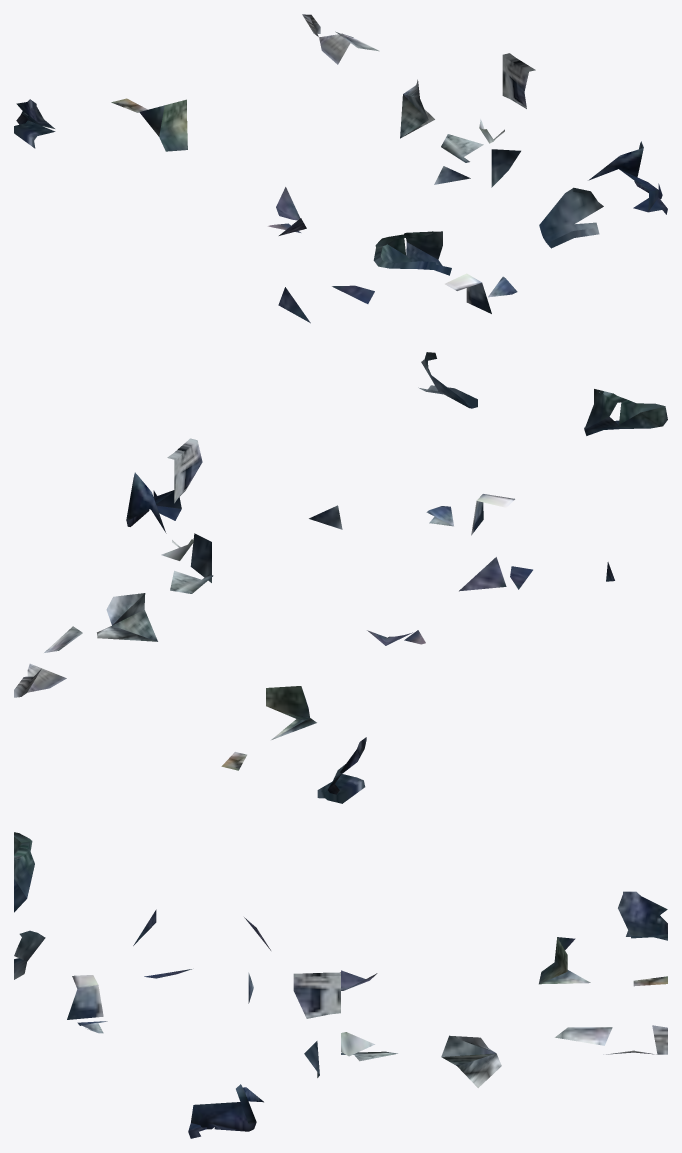
3 views of the same model, one above another, from view 1: azimuth 30°, elevation 25°; view 2: azimuth 150°, elevation 25°; view 3: azimuth 270°, elevation 25° (orthographic). The views are drawn at different scales.
Parts seen in each view (by area): view 1: 30436272704370435621_1; view 2: 30436272704370435621_1; view 3: 30436272704370435621_1.
Boxes of the visible parts, x1,y1,x2,y2 form: 30436272704370435621_1: [14, 14, 667, 323]; 30436272704370435621_1: [14, 352, 667, 803]; 30436272704370435621_1: [14, 832, 667, 1138].
Bounding box in the file's own units: 27.32 × 8.01 × 38.26.
Materials: 1 (1 with a texture image).
